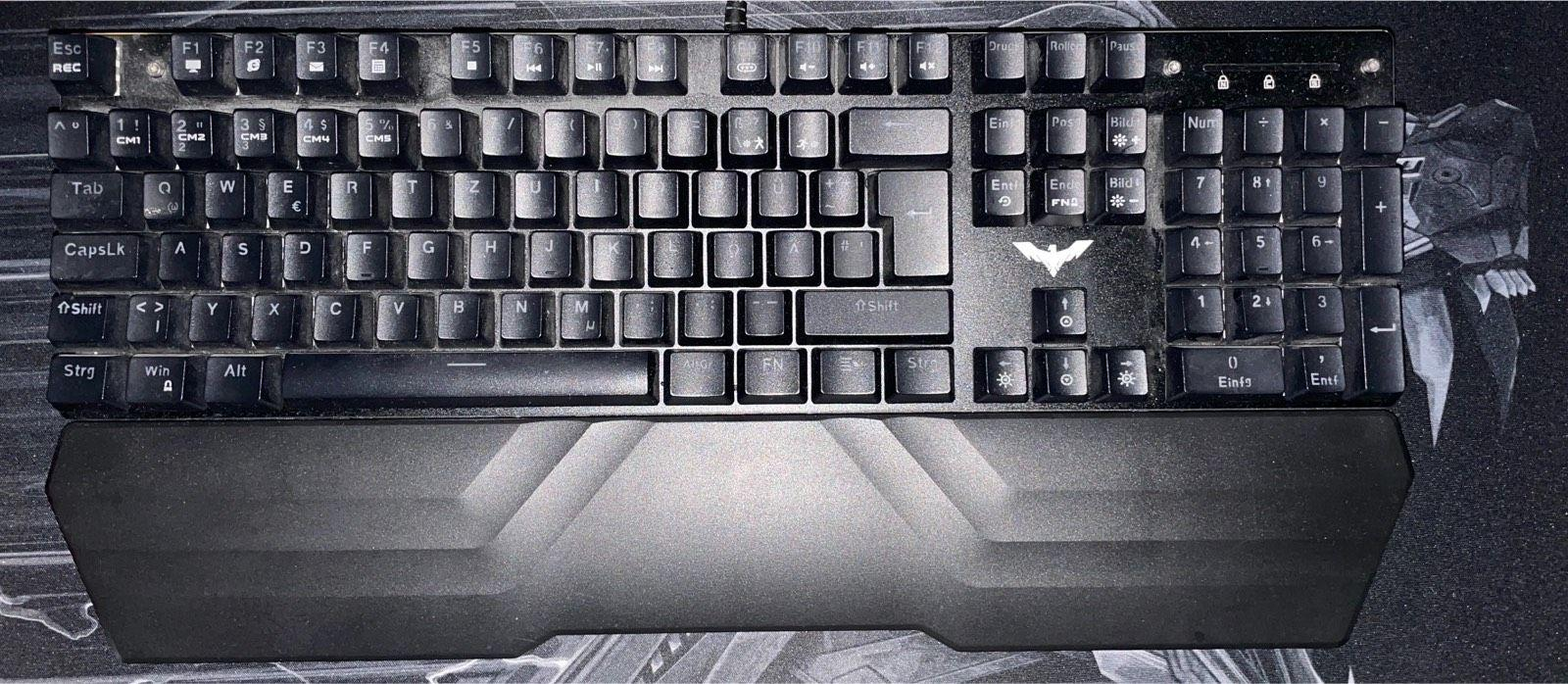0: (665, 108, 712, 158)
1: (105, 104, 152, 159)
2: (167, 106, 214, 159)
3: (229, 104, 275, 157)
4: (293, 104, 339, 157)
5: (355, 105, 401, 158)
6: (417, 104, 464, 156)
7: (479, 105, 525, 156)
8: (541, 106, 588, 158)
9: (604, 106, 649, 156)
a: (155, 227, 200, 280)
accent: (782, 106, 829, 156)
ae: (766, 225, 815, 277)
alt-left: (201, 351, 263, 403)
altgr-right: (663, 346, 727, 399)
b: (434, 287, 479, 339)
c: (310, 289, 355, 340)
caret: (43, 106, 88, 157)
comma: (618, 286, 666, 339)
d: (280, 227, 323, 280)
del: (843, 104, 950, 154)
e: (264, 167, 308, 219)
enter: (869, 164, 949, 277)
f: (343, 227, 385, 278)
g: (404, 227, 447, 277)
h: (466, 227, 510, 277)
hash: (825, 225, 872, 277)
i: (573, 167, 618, 217)
j: (527, 226, 570, 277)
k: (588, 227, 633, 280)
keyboard: (35, 13, 1428, 438)
l: (648, 225, 694, 278)
less: (123, 289, 168, 341)
m: (556, 287, 605, 339)
minus: (736, 285, 786, 335)
n: (496, 288, 542, 339)
o: (634, 167, 679, 217)
oe: (708, 226, 756, 277)
p: (694, 167, 739, 217)
plus: (810, 165, 858, 215)
point: (679, 285, 726, 337)
q: (139, 168, 183, 217)
r: (325, 168, 372, 219)
s: (218, 228, 262, 281)
shift-left: (46, 290, 109, 340)
shift-lock: (47, 228, 140, 281)
shift-right: (796, 283, 949, 335)
space: (276, 346, 653, 403)
ss: (723, 105, 770, 155)
strg-left: (45, 351, 106, 404)
strg-right: (886, 344, 953, 396)
t: (388, 167, 432, 217)
tab: (47, 167, 123, 219)
u: (512, 168, 557, 218)
ue: (753, 167, 799, 216)
v: (371, 289, 417, 339)
w: (200, 168, 247, 218)
x: (248, 289, 293, 340)
y: (185, 290, 231, 340)
z: (450, 167, 494, 217)
